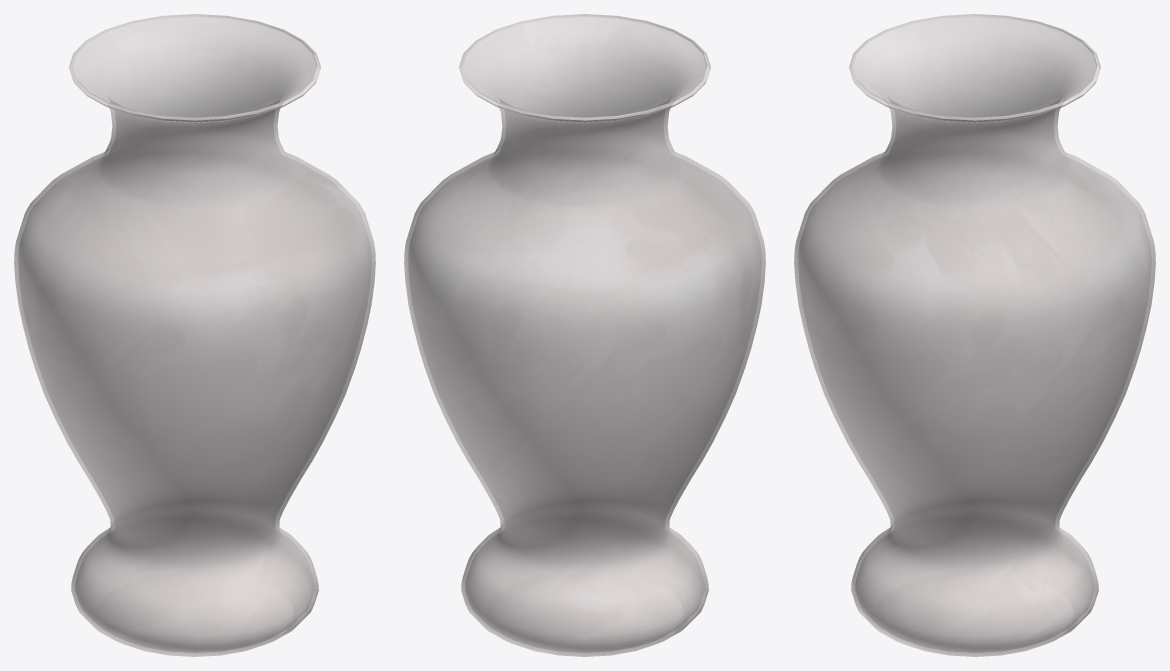
File: glass_vase.glb
The picture shows the model from 3 angles, left to right: view 1: azimuth 30°, elevation 25°; view 2: azimuth 150°, elevation 25°; view 3: azimuth 270°, elevation 25°; orthographic projection.
Visible parts, largest first — view 1: Vert_3; view 2: Vert_3; view 3: Vert_3.
Boxes of the visible parts, bbox=[...] form: Vert_3: bbox=[14, 14, 375, 656]; Vert_3: bbox=[404, 14, 765, 656]; Vert_3: bbox=[794, 14, 1155, 656].
Bounding box in the file's own units: 0.7428 × 1.24 × 0.7428.
1 material, 1 textured.
